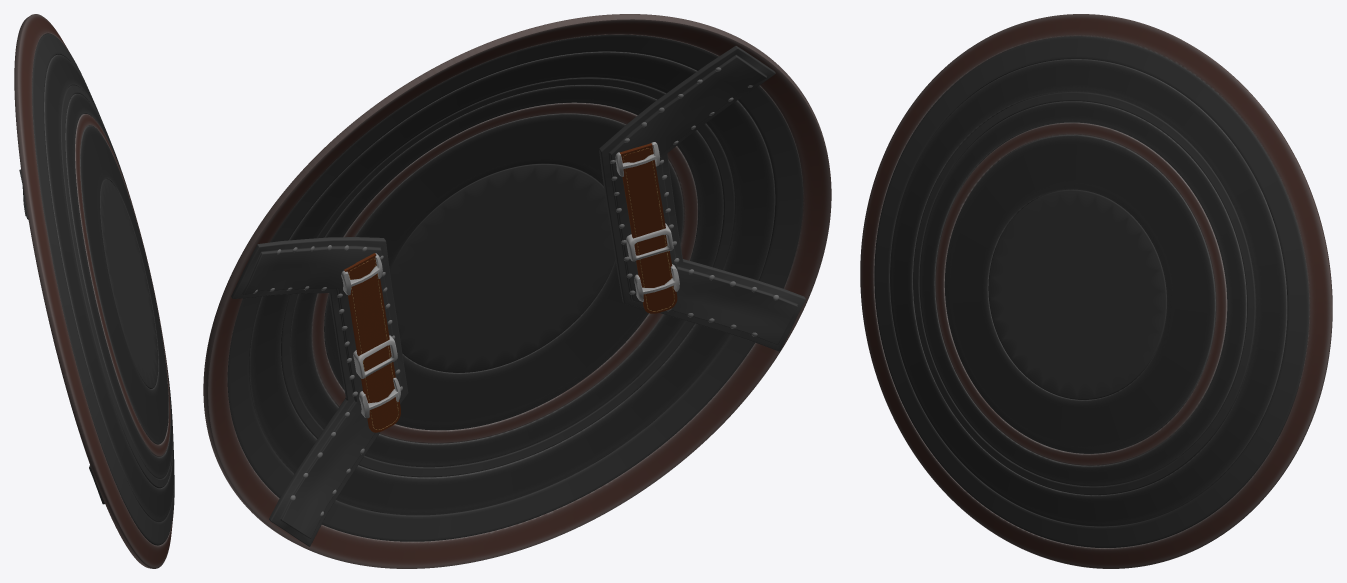
The model's file is jwshield.glb.
3 views of the same model, side by side, from view 1: azimuth 30°, elevation 25°; view 2: azimuth 150°, elevation 25°; view 3: azimuth 270°, elevation 25° (orthographic). The views are drawn at different scales.
Parts seen in each view (by area): view 1: Shield; view 2: Shield; view 3: Shield.
Boxes of the visible parts, left/top/right/bottom form: Shield: left=14, top=14, right=174, bottom=568; Shield: left=203, top=14, right=831, bottom=568; Shield: left=860, top=14, right=1332, bottom=568.
Size of the model in its own units: 0.855 by 1.37 by 1.2.
6 materials, 3 textured.
